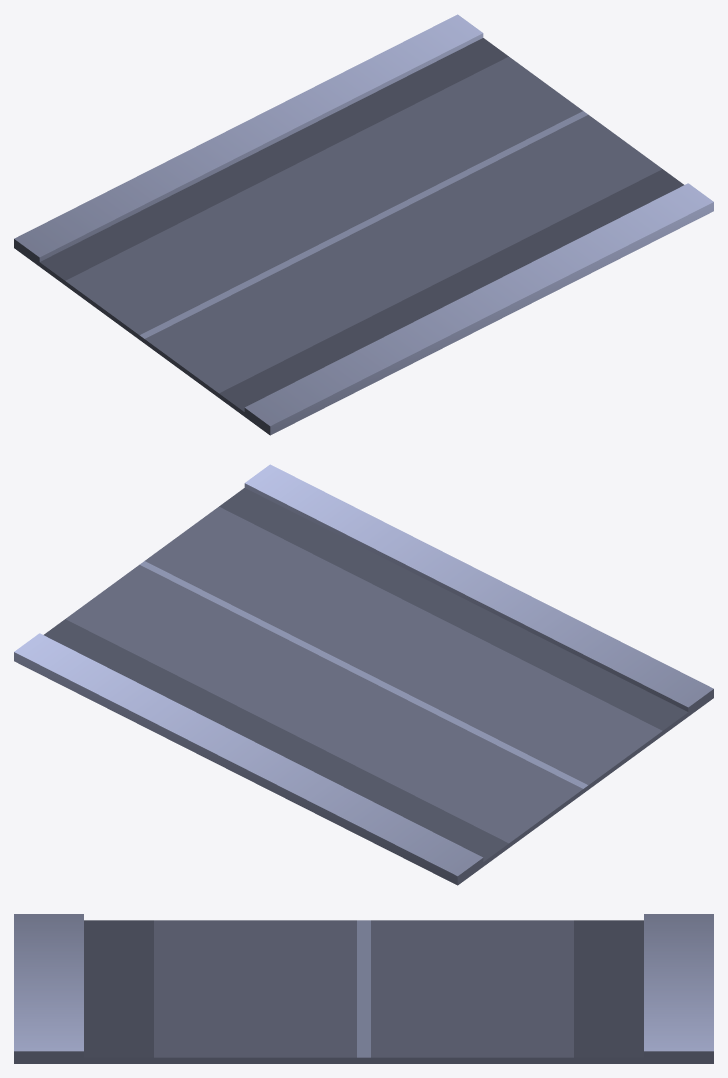
The model's file is road-slant-flat.glb.
3 renders of one model, top to bottom at view 1: azimuth 30°, elevation 25°; view 2: azimuth 150°, elevation 25°; view 3: azimuth 270°, elevation 25°, orthographic. The views are drawn at different scales.
Visible parts, largest first — view 1: road-slant-flat; view 2: road-slant-flat; view 3: road-slant-flat.
Part boxes in pixels (x1,y1,x2,y2): road-slant-flat: [14, 14, 713, 435]; road-slant-flat: [14, 464, 713, 885]; road-slant-flat: [14, 914, 713, 1063].
Size of the model in its own units: 1 by 0.27 by 1.
1 material, 1 textured.
